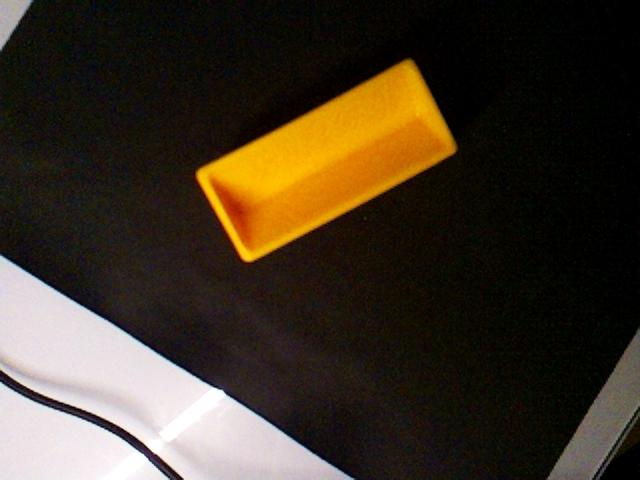yellow: (194, 57, 459, 264)
